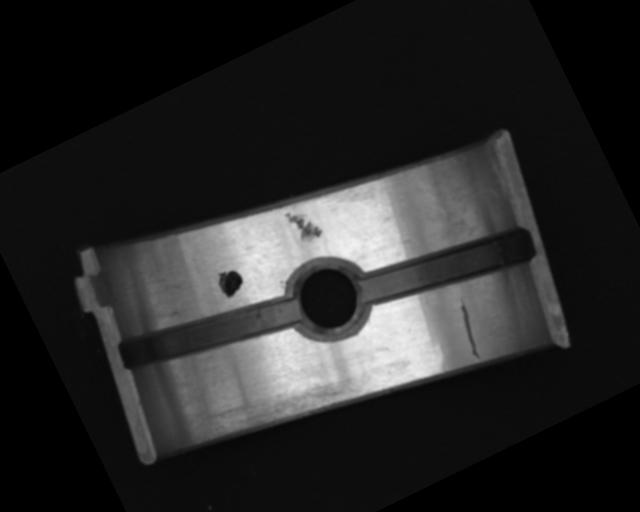blot: (213, 264, 248, 300)
bruise: (282, 201, 323, 247)
gap: (115, 266, 303, 400), (354, 204, 537, 333)
hole: (275, 246, 383, 353)
nick: (446, 294, 491, 363)
scratch: (199, 346, 372, 466)
